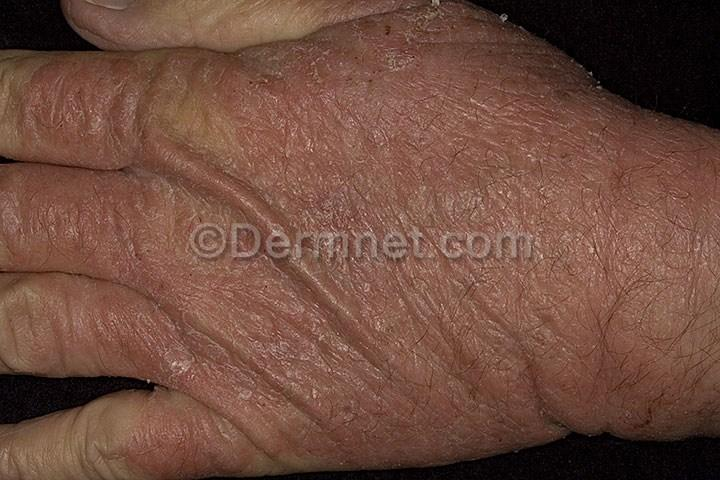Eczema: (247, 173, 399, 261), (378, 146, 498, 256), (446, 253, 547, 368), (192, 326, 292, 441), (274, 49, 365, 168), (181, 56, 279, 164), (351, 259, 449, 363), (564, 257, 661, 359), (244, 253, 356, 336), (363, 38, 449, 140), (504, 163, 589, 266), (521, 257, 579, 407), (80, 185, 163, 288), (357, 355, 434, 465), (283, 338, 364, 440), (166, 228, 253, 321), (429, 10, 518, 95), (54, 284, 136, 376), (134, 408, 244, 474), (11, 75, 109, 148), (517, 66, 585, 168), (636, 298, 719, 381), (106, 66, 178, 160), (580, 167, 646, 262), (174, 143, 248, 227), (628, 379, 718, 444), (0, 188, 77, 258), (133, 297, 195, 382), (628, 145, 706, 212), (431, 361, 491, 448), (650, 212, 699, 308), (491, 368, 552, 445), (450, 97, 512, 167), (636, 118, 703, 175), (691, 136, 720, 251), (117, 165, 185, 213), (592, 93, 635, 165), (6, 168, 101, 200), (585, 355, 622, 437), (247, 433, 313, 476), (695, 243, 717, 349), (365, 11, 426, 48), (511, 28, 563, 66), (312, 442, 359, 478), (12, 248, 82, 270), (314, 23, 361, 55)
